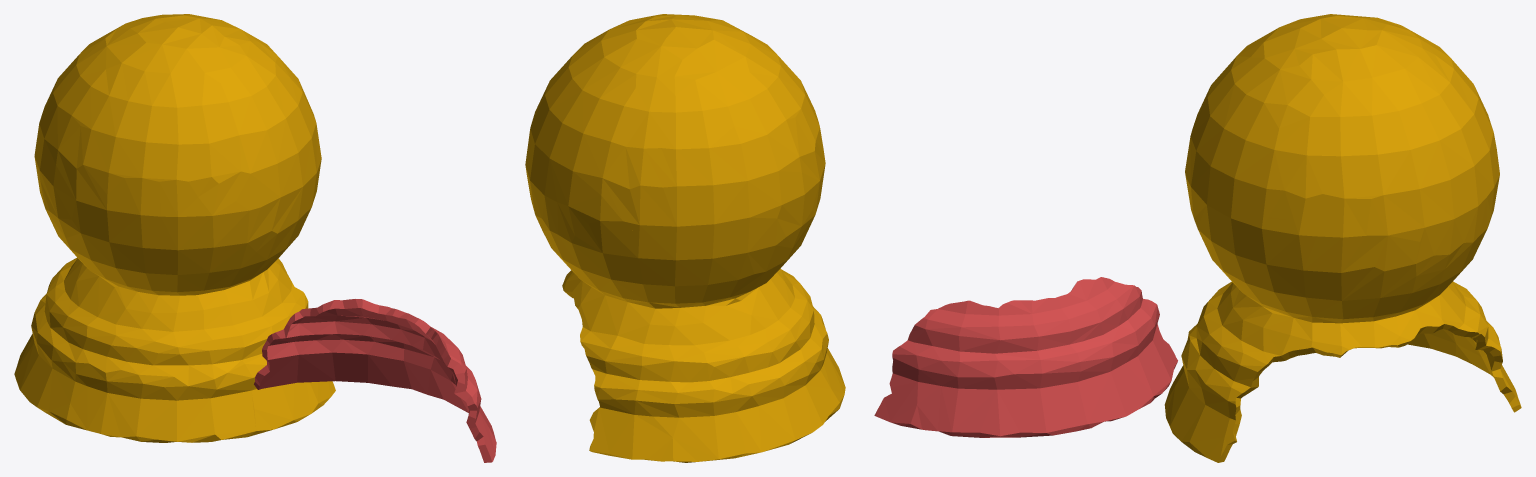
The model's file is fractured_27_2pcs_transformed.glb.
The picture shows the model from 3 angles, left to right: view 1: azimuth 30°, elevation 25°; view 2: azimuth 150°, elevation 25°; view 3: azimuth 270°, elevation 25°; orthographic projection. The views are drawn at different scales.
Parts seen in each view (by area): view 1: piece_0.obj, piece_1.obj; view 2: piece_0.obj; view 3: piece_0.obj, piece_1.obj.
Boxes of the visible parts, left/top/right/bottom form: piece_0.obj: left=14, top=14, right=335, bottom=442; piece_1.obj: left=254, top=299, right=496, bottom=462; piece_0.obj: left=525, top=14, right=845, bottom=462; piece_0.obj: left=1164, top=14, right=1521, bottom=462; piece_1.obj: left=874, top=277, right=1177, bottom=437.
Bounding box in the file's own units: 0.8448 × 1 × 1.53.
